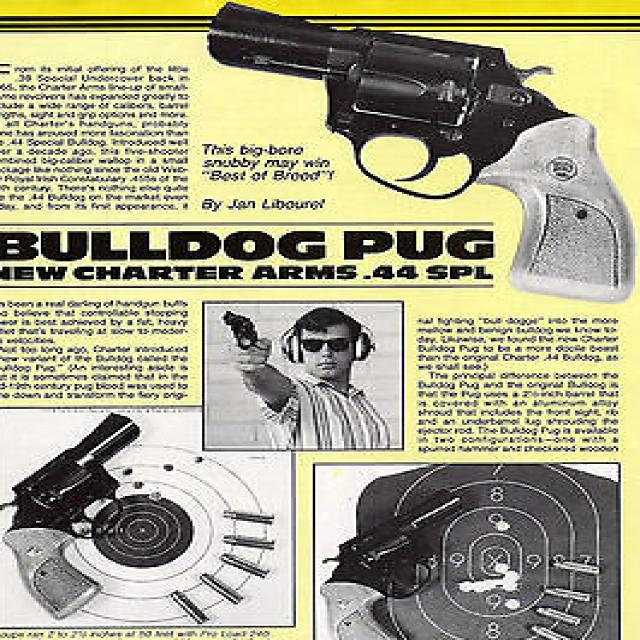Gun: (190, 3, 640, 294)
